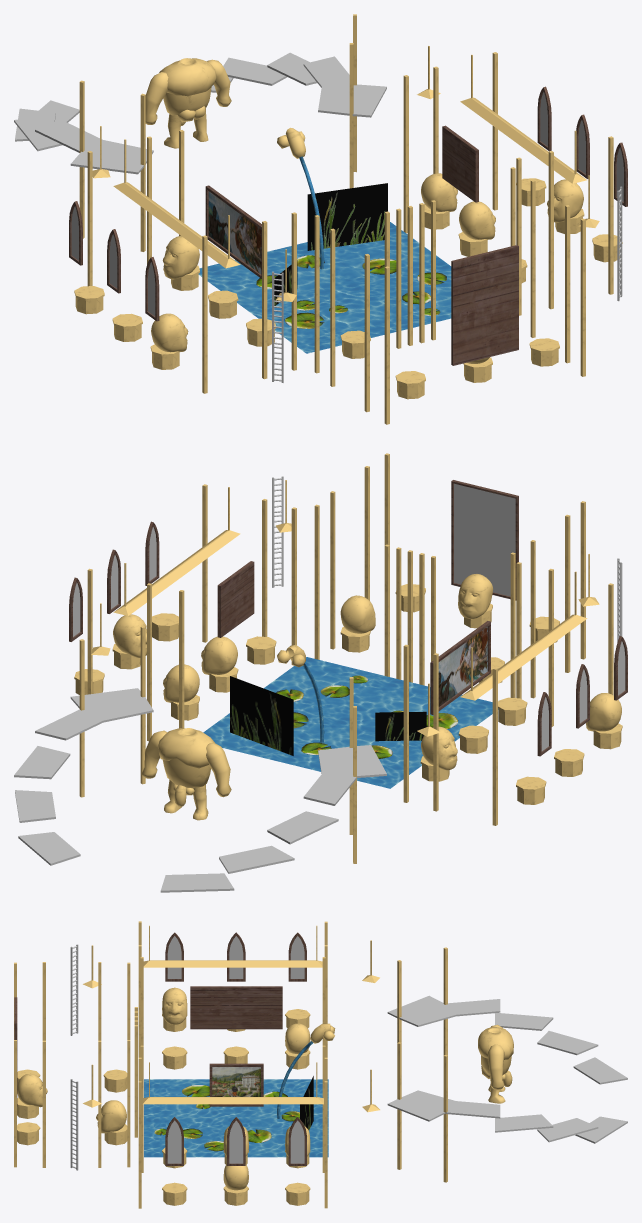
Rendered from passthrough.obj.
The picture shows the model from 3 angles, top to bottom: view 1: azimuth 30°, elevation 25°; view 2: azimuth 150°, elevation 25°; view 3: azimuth 270°, elevation 25°; orthographic projection. The views are drawn at different scales.
Visible parts, largest first — view 1: Bars, Plane, Palace_2, Pedestals, Painting_3, Body, Lights, Lilypad.009, Painting_1, Window_1, Window_2, Painting_2 (+7 smaller); view 2: Bars, Palace_2, Plane, Pedestals, Painting_3, Body, Lights, Lilypad.009, Painting_1, Window_1, Window_2, Painting_2 (+10 smaller); view 3: Bars, Palace_2, Plane, Pedestals, Painting_1, Lights, Window_2, Window_1, Body, Painting_2, Ladder, Quad_Sphere.001 (+6 smaller).
Boxes of the visible parts, x1=… form: Bars: x1=79, y1=14, x2=613, y2=424; Plane: x1=198, y1=222, x2=451, y2=353; Palace_2: x1=14, y1=52, x2=386, y2=174; Pedestals: x1=74, y1=178, x2=622, y2=399; Painting_3: x1=451, y1=245, x2=518, y2=365; Body: x1=145, y1=58, x2=231, y2=148; Lights: x1=92, y1=46, x2=599, y2=301; Lilypad.009: x1=307, y1=183, x2=387, y2=250; Painting_1: x1=205, y1=185, x2=261, y2=278; Window_1: x1=69, y1=201, x2=159, y2=321; Window_2: x1=537, y1=86, x2=627, y2=206; Painting_2: x1=442, y1=125, x2=478, y2=202; Bars: x1=79, y1=453, x2=613, y2=863; Palace_2: x1=14, y1=688, x2=386, y2=892; Plane: x1=203, y1=657, x2=498, y2=788; Pedestals: x1=74, y1=584, x2=622, y2=804; Painting_3: x1=451, y1=480, x2=518, y2=600; Body: x1=142, y1=728, x2=231, y2=820; Lights: x1=91, y1=480, x2=599, y2=736; Lilypad.009: x1=230, y1=676, x2=293, y2=755; Painting_1: x1=430, y1=621, x2=490, y2=714; Window_1: x1=537, y1=636, x2=627, y2=756; Window_2: x1=69, y1=521, x2=159, y2=641; Painting_2: x1=217, y1=561, x2=254, y2=637; Bars: x1=14, y1=921, x2=447, y2=1208; Palace_2: x1=387, y1=995, x2=627, y2=1143; Plane: x1=144, y1=1079, x2=328, y2=1157; Pedestals: x1=17, y1=1009, x2=310, y2=1205; Painting_1: x1=190, y1=986, x2=282, y2=1029; Lights: x1=83, y1=925, x2=379, y2=1112; Window_2: x1=165, y1=1117, x2=306, y2=1165; Window_1: x1=165, y1=932, x2=306, y2=981; Body: x1=478, y1=1024, x2=513, y2=1103; Painting_2: x1=209, y1=1063, x2=263, y2=1106; Ladder: x1=70, y1=944, x2=78, y2=1170; Quad_Sphere.001: x1=162, y1=987, x2=187, y2=1024.
Bounding box in the file's own units: 28.55 × 9.69 × 39.93.
